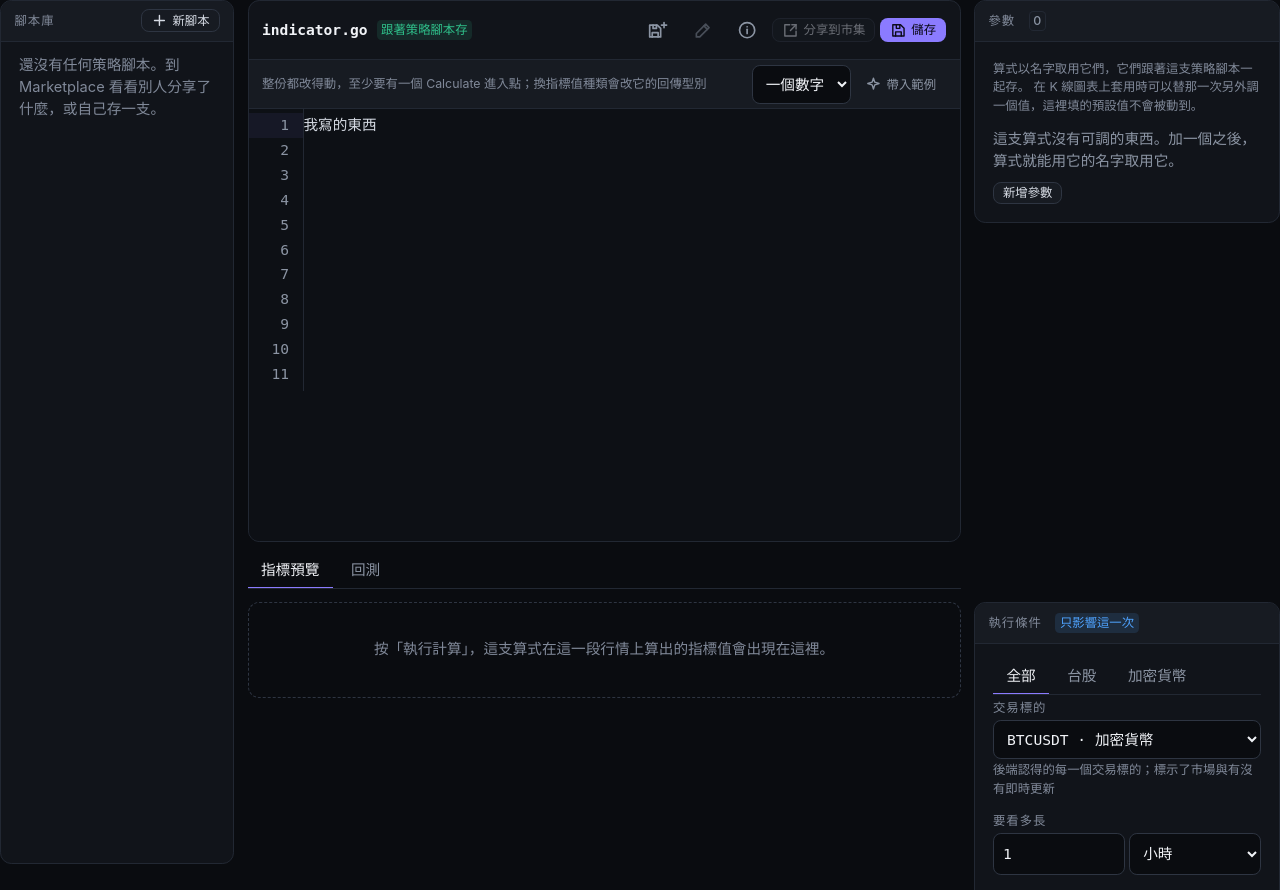
Test: 策略腳本畫面上的策略腳本：存回去 › 名稱被佔用時對話框不關閉、就地說明，畫面內容一字不動
Clear the field with class "cm-content" at (340, 125), box [304, 116, 376, 133]
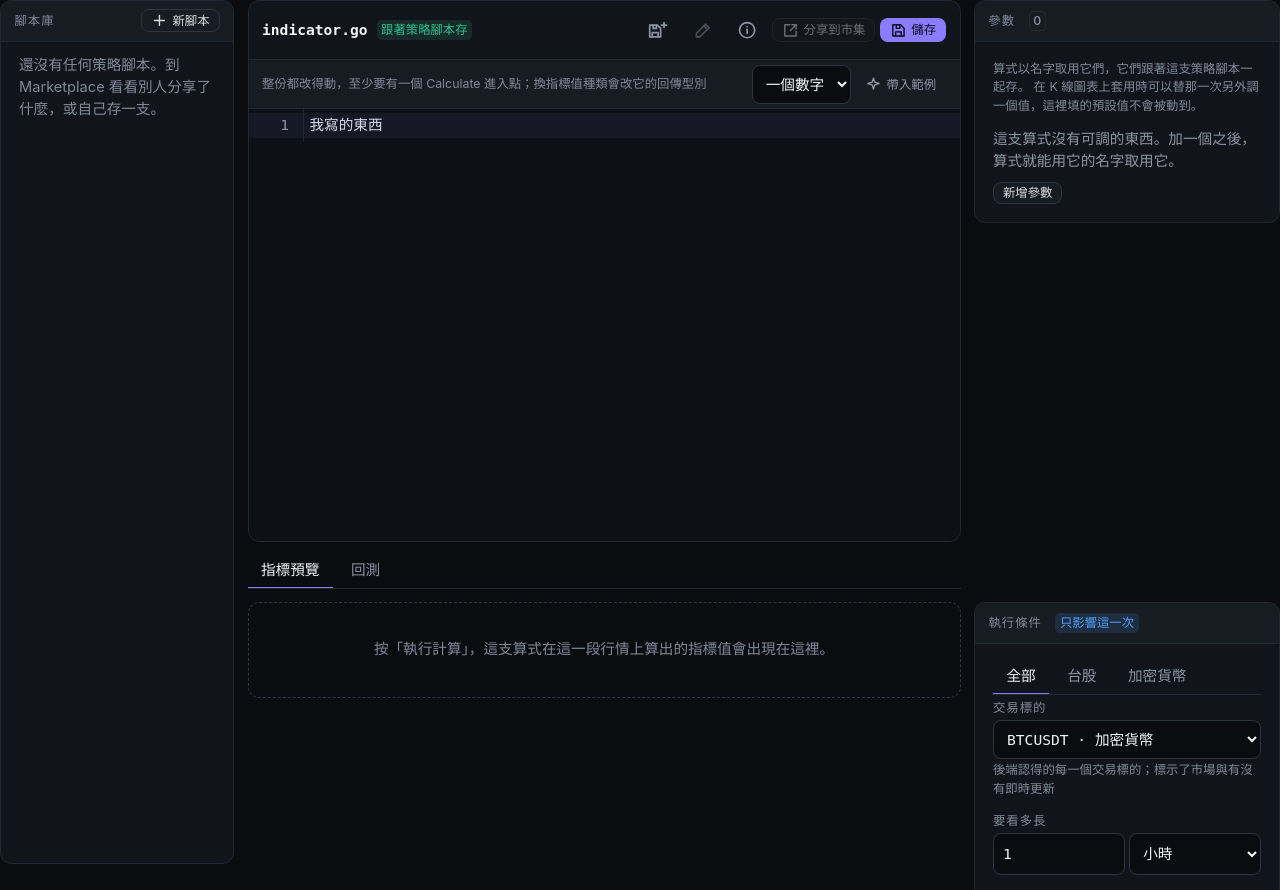
Click the button with test id "save-as-strategy-script-button" at (658, 30), box [638, 10, 678, 50]
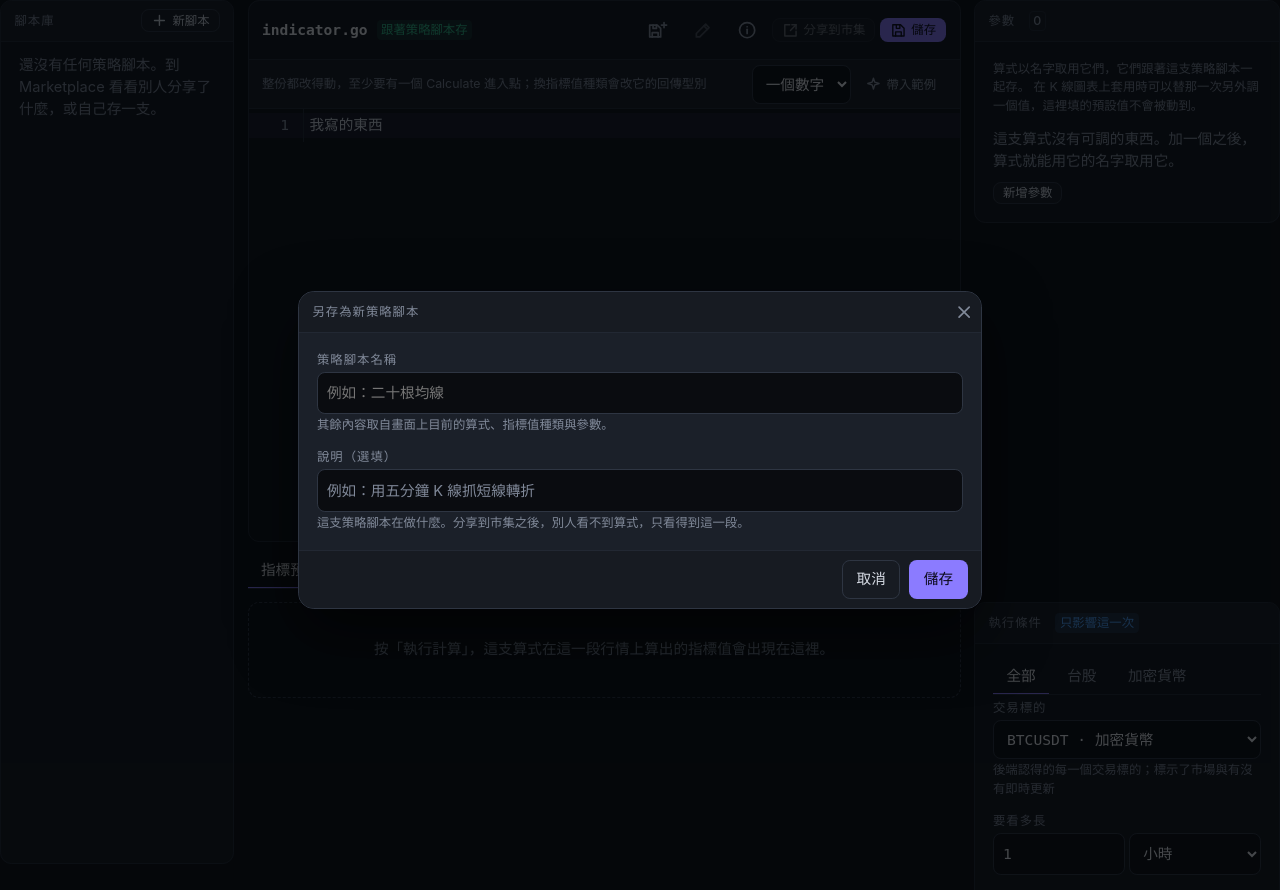
Type "二十根均線" into the field with test id "strategy-script-name-input" at (640, 393), box [317, 372, 963, 414]
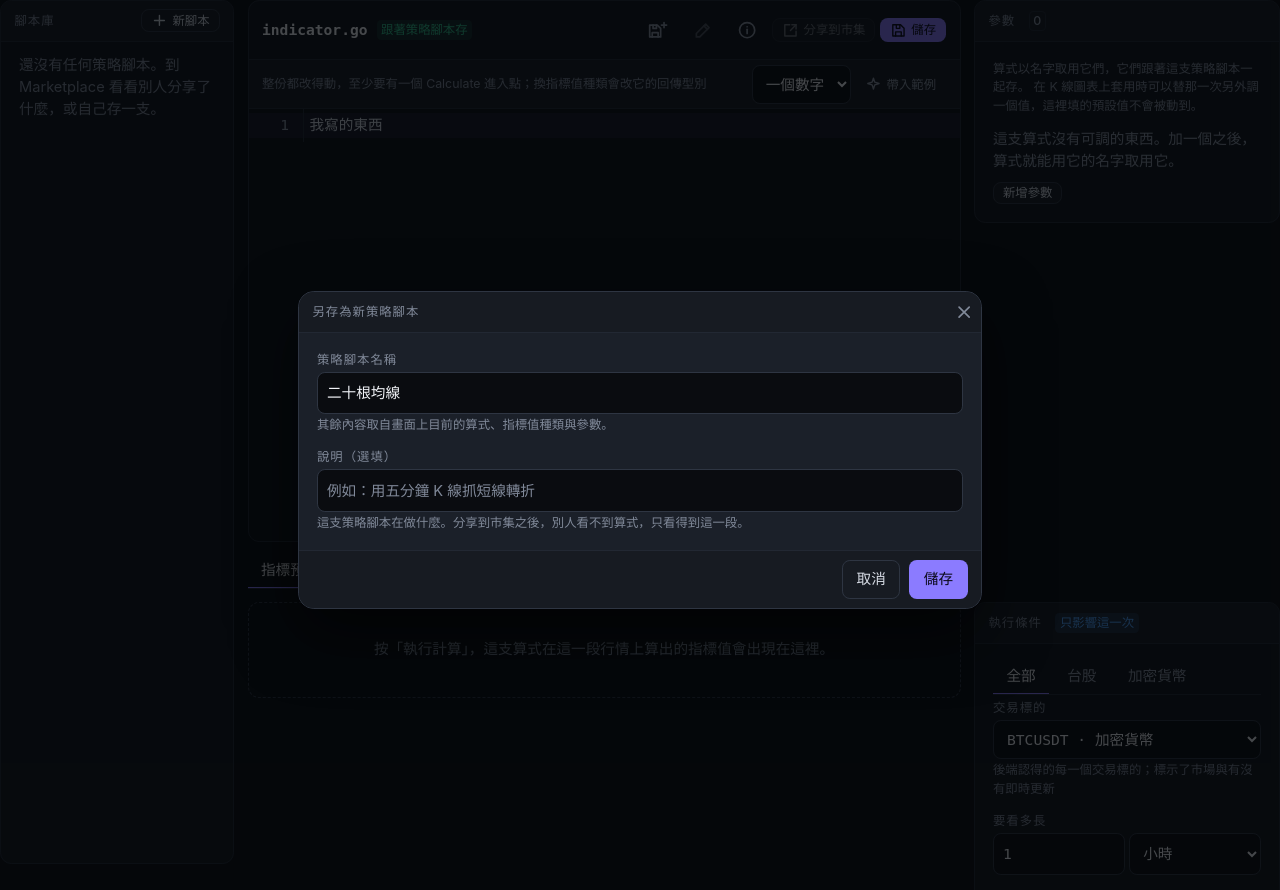
Click the button with test id "strategy-script-name-submit" at (938, 580), box [909, 560, 968, 599]
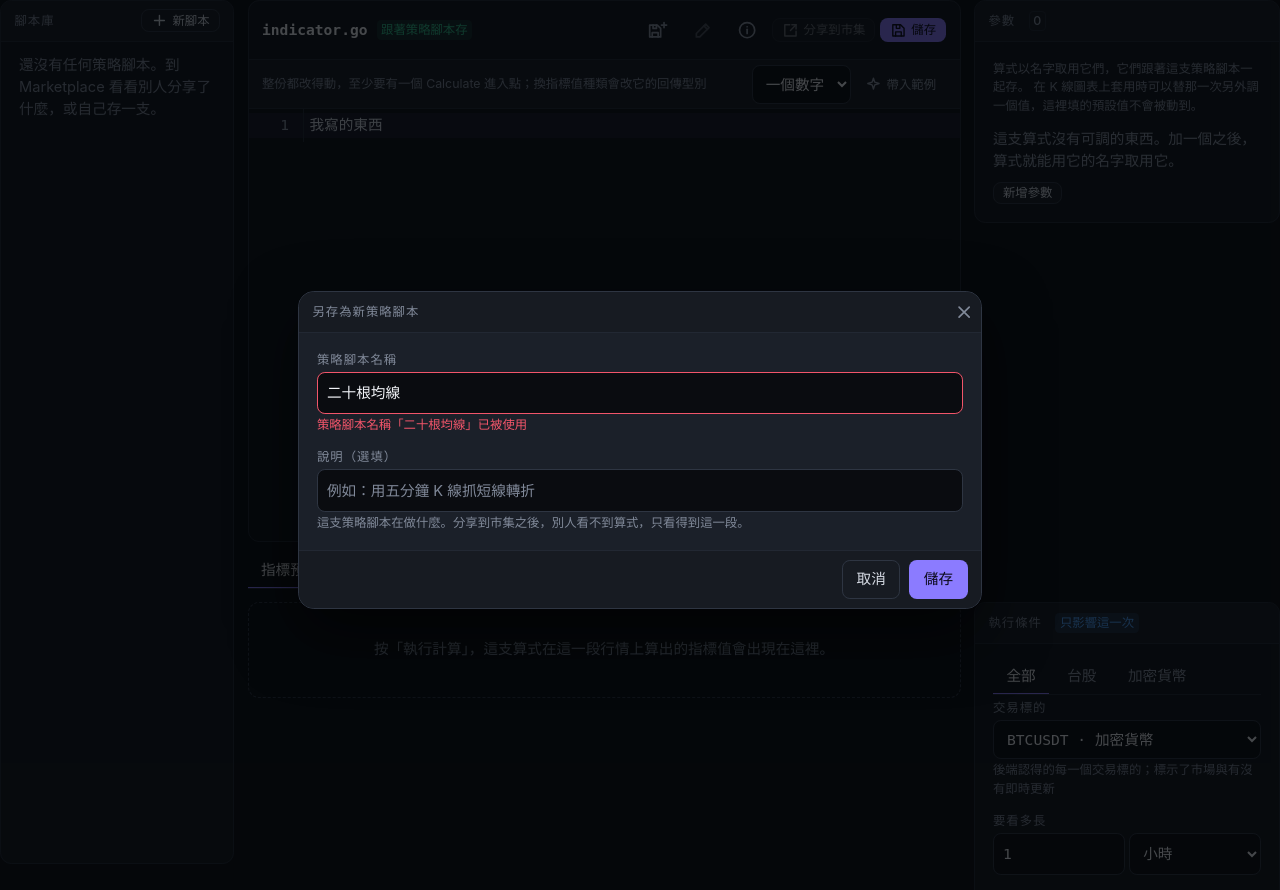
Expected: the text box labelled "我寫的東西" is shown, [304, 113, 960, 138]
Result: the text with test id "field-error" shows "已被使用" at [317, 417, 527, 432]
